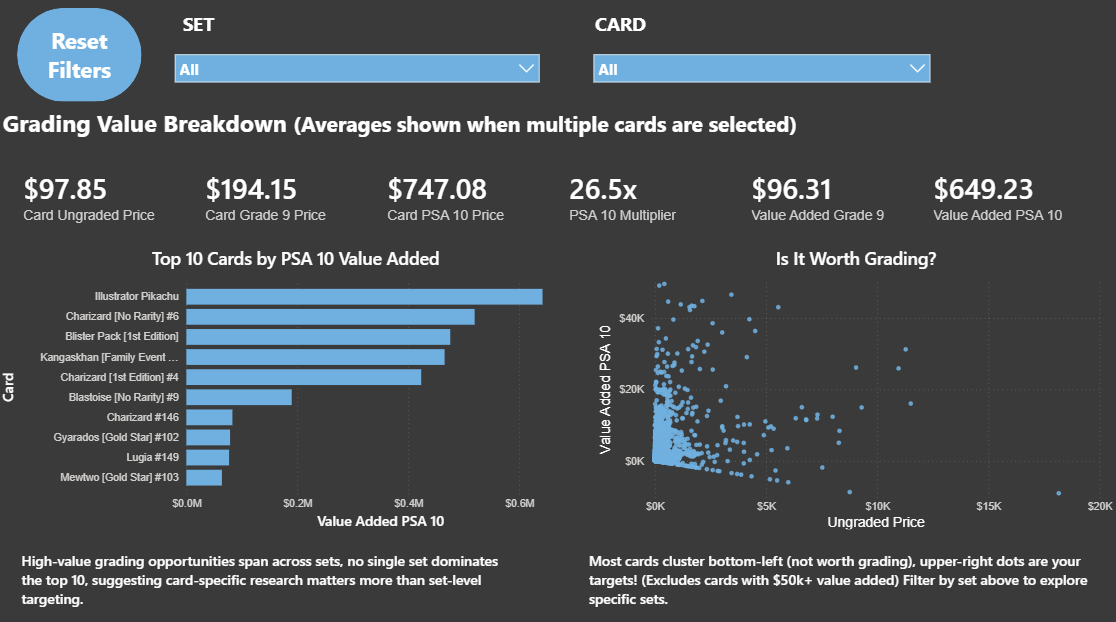

The page's visual inventory and layout, read from the dashboard file:
{"tool":"powerbi","page":{"name":"Page 2","canvas":[1280,720],"ordinal":0},"visuals":[{"type":"slicer","fields":{"Values":["pokemon_prices.Set"]},"box":[192.3,52.3,436.9,63.8],"z":0},{"type":"slicer","fields":{"Values":["pokemon_prices.Card"]},"box":[671.2,52.5,405,65],"z":1000},{"type":"cardVisual","fields":{"Data":["pokemon_prices.Card Ungraded Price","pokemon_prices.Card Grade 9 Price","pokemon_prices.Card PSA 10 Price","pokemon_prices.Average PSA 10 Multiplier","pokemon_prices.Value Added Grade 9","pokemon_prices.Value Added PSA 10"]},"box":[0,166.8,1278.3,115.7],"z":2000},{"type":"actionButton","box":[22.5,10,142.5,107.5],"z":3000},{"type":"textbox","box":[207.5,8.8,946.2,45],"z":4000},{"type":"barChart","title":"Top 10 Cards by PSA 10 Value Added","fields":{"Y":["pokemon_prices.Value Added PSA 10"],"Category":["pokemon_prices.Card"]},"box":[0,282.6,682.6,328.5],"z":5000},{"type":"textbox","box":[22.9,625.7,558.6,80],"z":6000},{"type":"scatterChart","title":"Is It Worth Grading?","fields":{"X":["Sum(pokemon_prices.Ungraded)"],"Category":["pokemon_prices.Card"],"Y":["pokemon_prices.Value Added PSA 10"]},"box":[682.6,282.6,597.4,328.5],"z":7000},{"type":"textbox","box":[671.4,625.7,598.6,80],"z":8000},{"type":"textbox","box":[1.7,119.1,1278.3,47.7],"z":9000}]}

Visuals, with their boxes in screenshot pixels (x1, y1, x2, y2), scaled from the page's 1280x720 canvas onto the 1116x622 screenshot:
slicer - pokemon_prices.Set: 168:45:549:100
slicer - pokemon_prices.Card: 585:45:938:102
cardVisual - pokemon_prices.Card Ungraded Price x pokemon_prices.Card Grade 9 Price: 0:144:1115:244
actionButton: 20:9:144:102
textbox: 181:8:1006:46
"Top 10 Cards by PSA 10 Value Added" barChart: 0:244:595:528
textbox: 20:541:507:610
"Is It Worth Grading?" scatterChart: 595:244:1115:528
textbox: 585:541:1107:610
textbox: 1:103:1115:144
